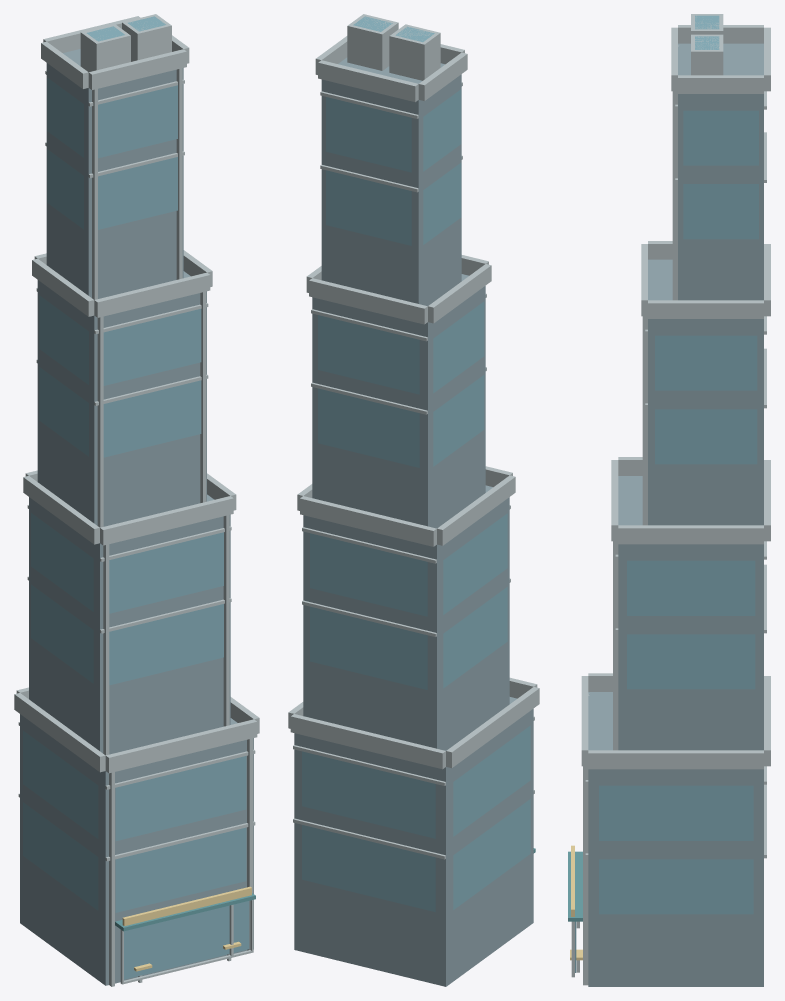
File: commercial_1x1_terraces.glb
3 views of the same model, side by side, from view 1: azimuth 30°, elevation 25°; view 2: azimuth 150°, elevation 25°; view 3: azimuth 270°, elevation 25° (orthographic). The views are drawn at different scales.
Visible parts, largest first — view 1: commercial_1x1_terraces_0; view 2: commercial_1x1_terraces_0; view 3: commercial_1x1_terraces_0.
Boxes of the visible parts, x1,y1,x2,y2 form: commercial_1x1_terraces_0: [14, 14, 259, 986]; commercial_1x1_terraces_0: [288, 14, 539, 986]; commercial_1x1_terraces_0: [568, 14, 770, 986].
Size of the model in its own units: 7 by 37.5 by 7.5.
